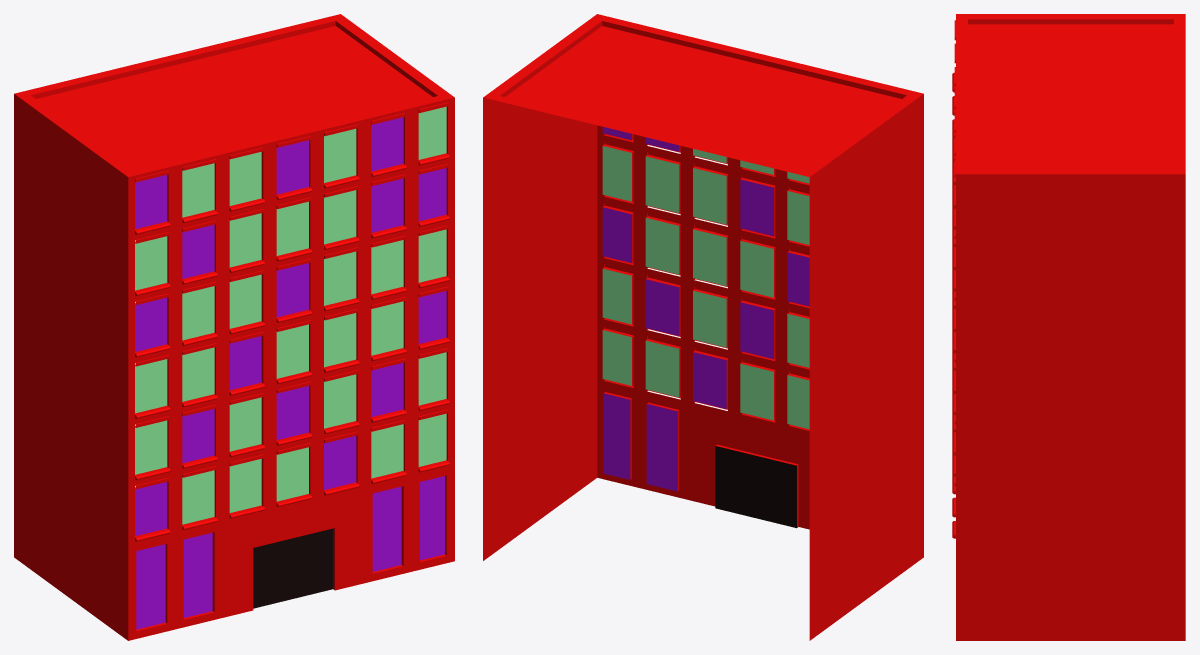
File: MediumStandard.FBX
3 renders of one model, left to right at view 1: azimuth 30°, elevation 25°; view 2: azimuth 150°, elevation 25°; view 3: azimuth 270°, elevation 25°, orthographic.
Parts seen in each view (by area): view 1: MediumStandard; view 2: MediumStandard; view 3: MediumStandard.
Part boxes in pixels (x1=…): MediumStandard: x1=14, y1=14, x2=454, y2=640; MediumStandard: x1=483, y1=14, x2=923, y2=640; MediumStandard: x1=952, y1=14, x2=1185, y2=640.
Size of the model in its own units: 64.34 by 87.29 by 39.58.
